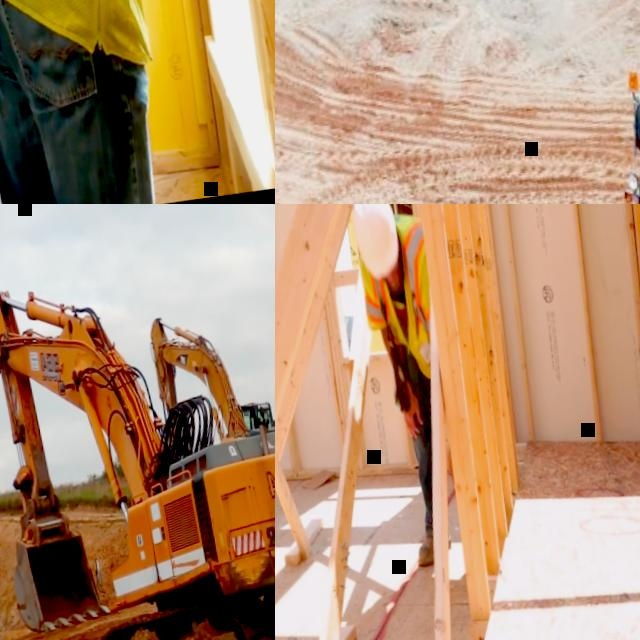Hardhat: (347, 204, 401, 279)
Person: (0, 0, 275, 204), (346, 204, 464, 571), (257, 406, 268, 425)
Safety Vest: (0, 0, 219, 81), (353, 212, 440, 387)
machinery: (0, 245, 275, 640), (431, 0, 640, 204), (142, 298, 275, 467)
